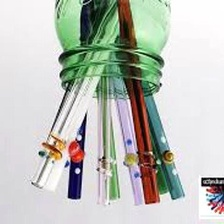drinking_straw: (94, 0, 118, 207)
glass: (49, 0, 173, 102)
